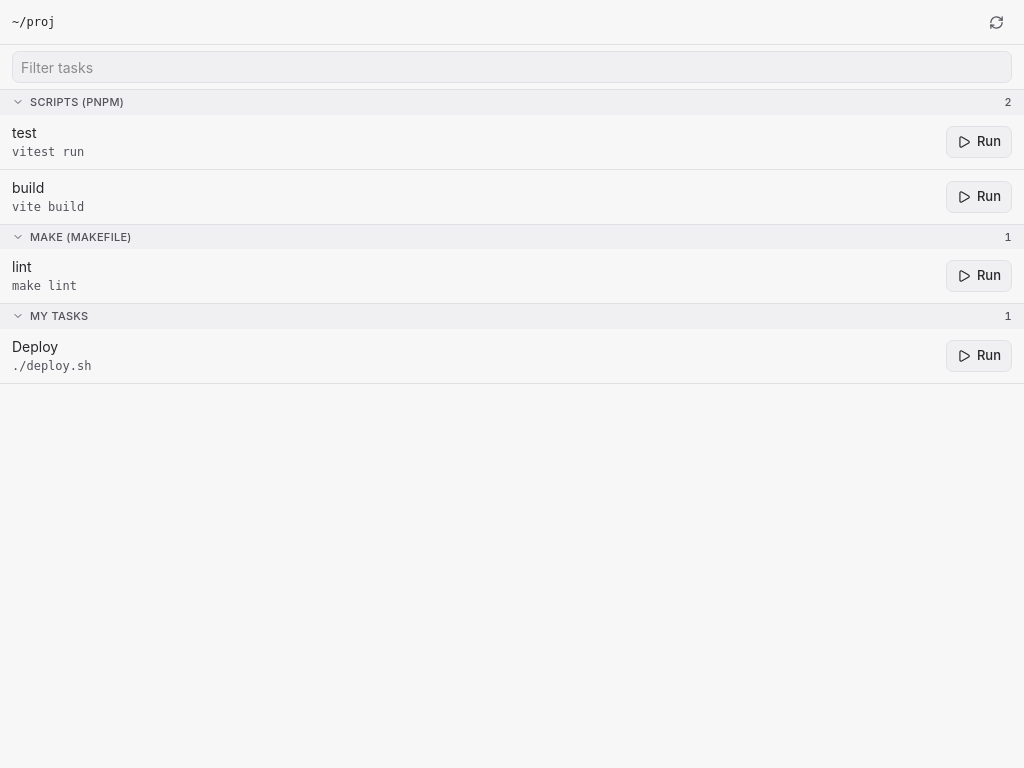
TasksView Run › runs a task, tells it and offers its tab
Check: the element with test id "tasks-view" is shown, box [0,0,1023,384]
Click the button with aria-label "Run test": (979, 142) [946,126,1012,158]
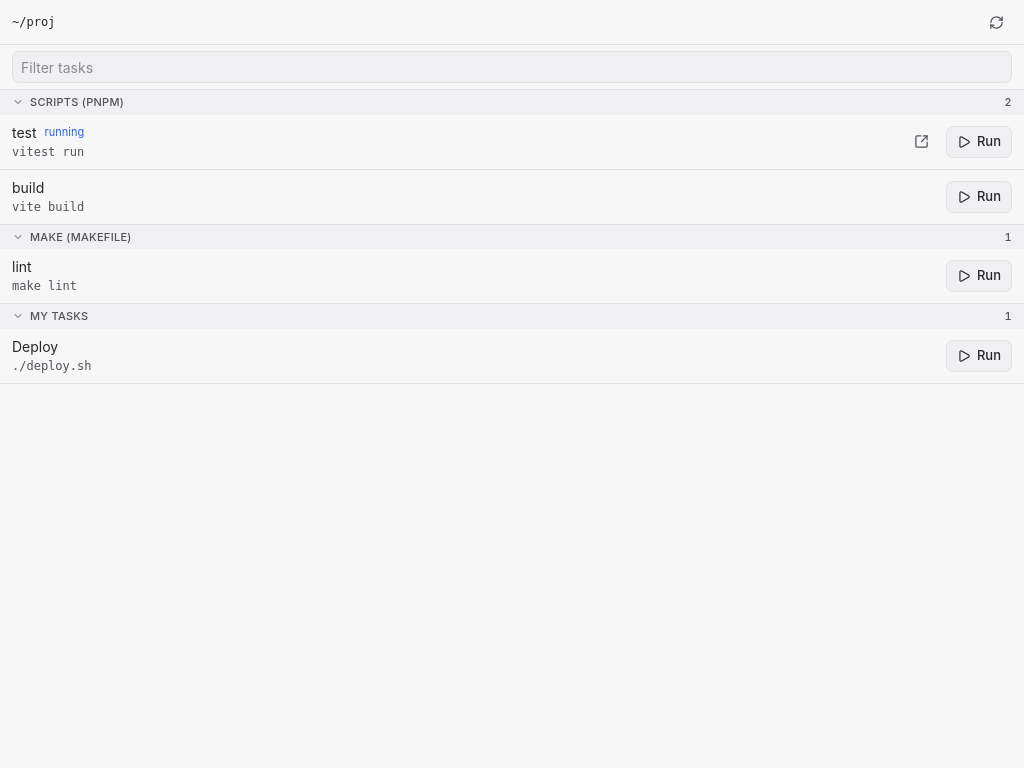
Check: the text with test id "task-run-state" reads "running", box [45,125,84,139]
